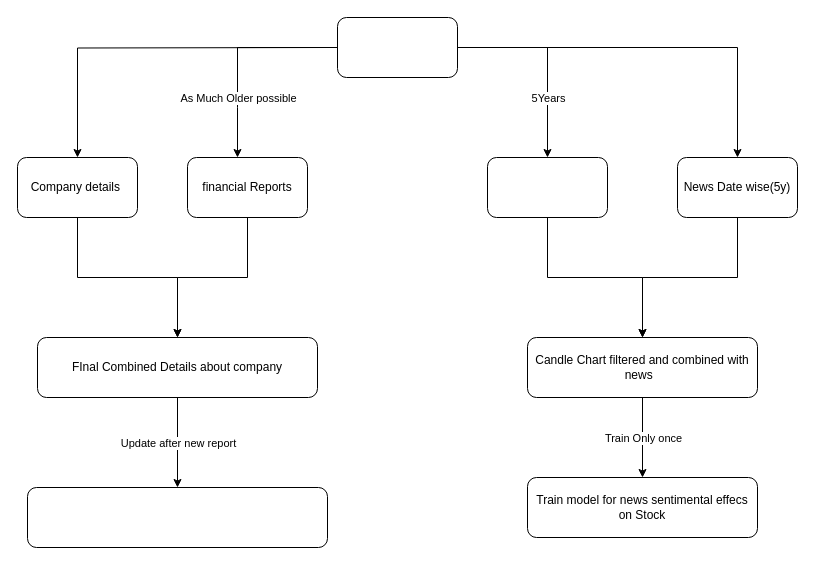
This 815x565 diagram has some shape labels left out. The shapes that lost their labels are listed below. From the top down, each one's centre as x and y in pixels, then its label:
pixel 397 47: List of Nifty 100
pixel 547 187: Candle Chart
pixel 177 517: Provide model with company details to Figout future of company
